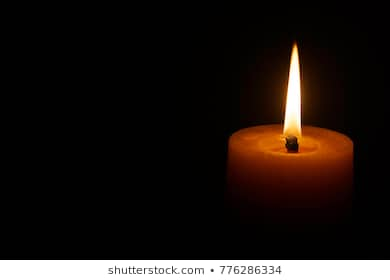Fire: (282, 40, 304, 136)
